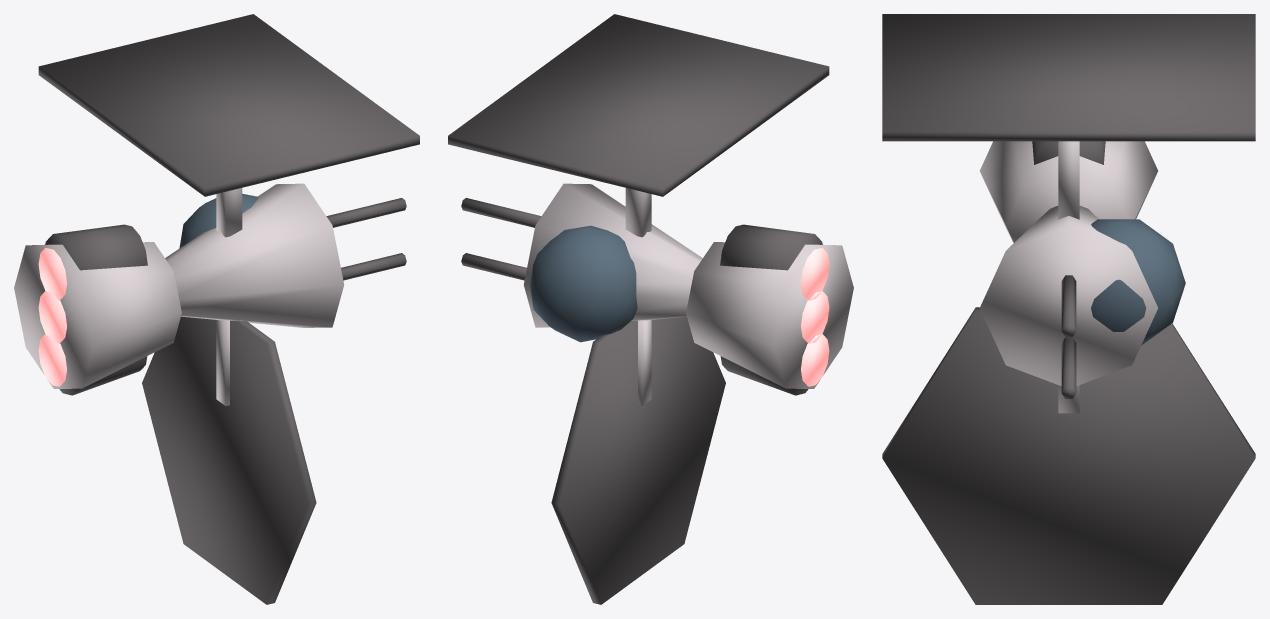
Rendered from enemy-ship-1.glb.
3 renders of one model, left to right at view 1: azimuth 30°, elevation 25°; view 2: azimuth 150°, elevation 25°; view 3: azimuth 270°, elevation 25°, orthographic. The views are drawn at different scales.
Visible parts, largest first — view 1: Starfighter; view 2: Starfighter; view 3: Starfighter.
Part boxes in pixels (x1,y1,x2,y2): Starfighter: (14,14,419,604); Starfighter: (448,14,853,604); Starfighter: (882,14,1255,604).
Bounding box in the file's own units: 1.17 × 1.5 × 0.9578.
